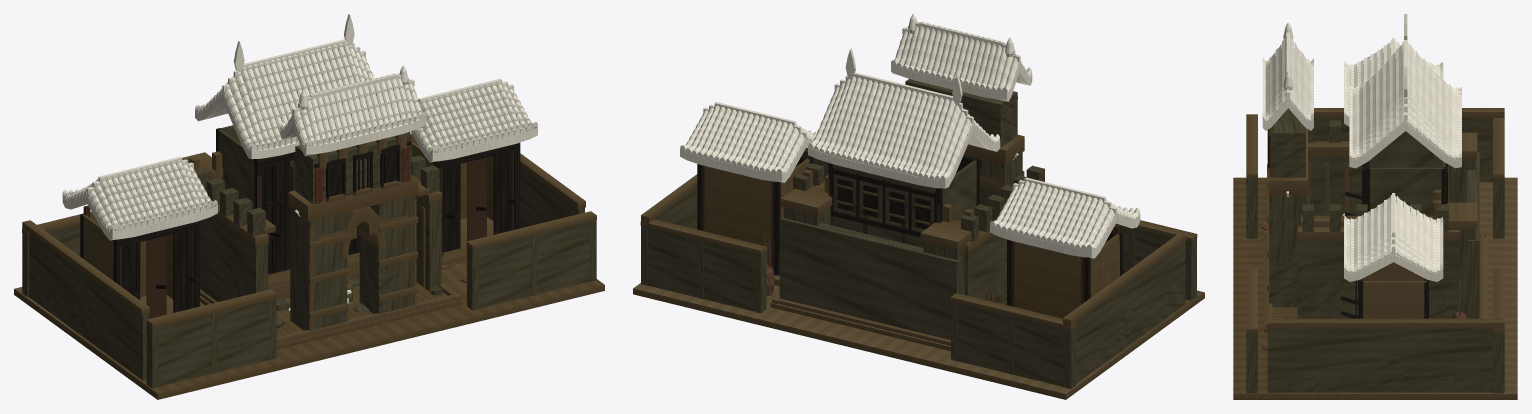
3 renders of one model, left to right at view 1: azimuth 30°, elevation 25°; view 2: azimuth 150°, elevation 25°; view 3: azimuth 270°, elevation 25°, orthographic. The views are drawn at different scales.
Parts seen in each view (by area): view 1: garrison_part_0004, garrison_part_0006, garrison_part_0005, garrison_part_0001, garrison_part_0003, garrison_part_0000, garrison_part_0002; view 2: garrison_part_0006, garrison_part_0001, garrison_part_0004, garrison_part_0005, garrison_part_0000, garrison_part_0003, garrison_part_0002; view 3: garrison_part_0003, garrison_part_0004, garrison_part_0005, garrison_part_0006, garrison_part_0000, garrison_part_0001, garrison_part_0002.
Boxes of the visible parts, left/top/right/bottom form: garrison_part_0004: left=62, top=41, right=596, bottom=388; garrison_part_0006: left=28, top=39, right=596, bottom=388; garrison_part_0005: left=22, top=14, right=596, bottom=328; garrison_part_0001: left=22, top=42, right=537, bottom=373; garrison_part_0003: left=29, top=132, right=584, bottom=380; garrison_part_0000: left=14, top=217, right=604, bottom=399; garrison_part_0002: left=29, top=221, right=536, bottom=379; garrison_part_0006: left=680, top=23, right=1191, bottom=388; garrison_part_0001: left=641, top=22, right=1186, bottom=374; garrison_part_0004: left=641, top=14, right=1196, bottom=361; garrison_part_0005: left=640, top=22, right=1197, bottom=388; garrison_part_0000: left=633, top=275, right=1204, bottom=399; garrison_part_0003: left=642, top=149, right=1185, bottom=386; garrison_part_0002: left=996, top=283, right=1183, bottom=383; garrison_part_0003: left=1267, top=118, right=1492, bottom=392; garrison_part_0004: left=1246, top=14, right=1504, bottom=392; garrison_part_0005: left=1246, top=33, right=1504, bottom=333; garrison_part_0006: left=1247, top=34, right=1492, bottom=393; garrison_part_0000: left=1233, top=177, right=1517, bottom=399; garrison_part_0001: left=1262, top=22, right=1504, bottom=393; garrison_part_0002: left=1268, top=148, right=1492, bottom=392.
Size of the model in its own units: 1690 by 922 by 940.
